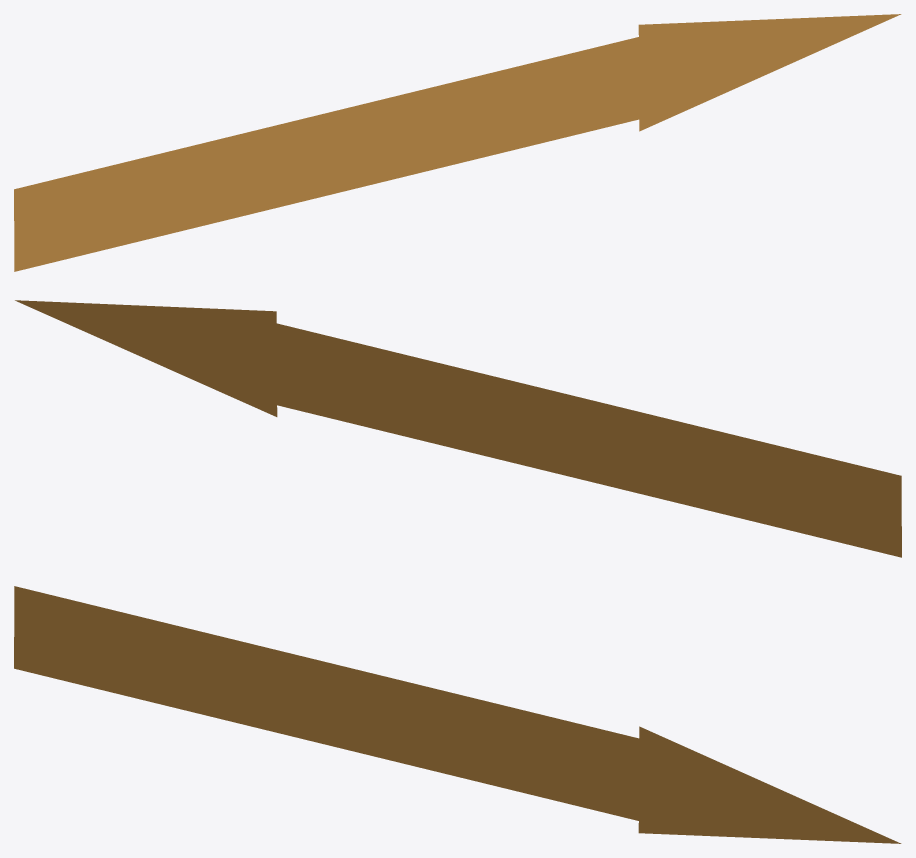
Rendered from Hourhand.glb.
The picture shows the model from 3 angles, top to bottom: view 1: azimuth 30°, elevation 25°; view 2: azimuth 150°, elevation 25°; view 3: azimuth 330°, elevation 25°; orthographic projection.
Visible parts, largest first — view 1: Plane; view 2: Plane; view 3: Plane.
Boxes of the visible parts, box(x1,y1,x2,y2) form: Plane: box(14, 14, 901, 271); Plane: box(15, 300, 901, 557); Plane: box(14, 586, 901, 843).
Bounding box in the file's own units: 0.6937 × 0.0795 × 0.00076.
